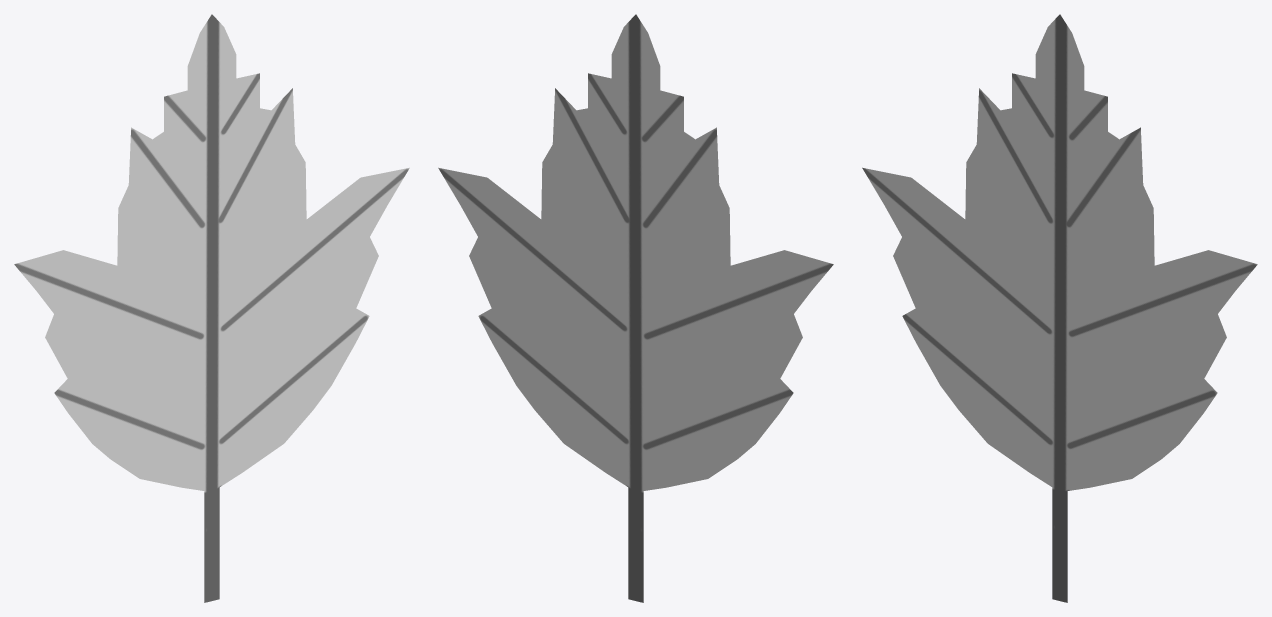
The model's file is Leaf4.gltf.
3 views of the same model, side by side, from view 1: azimuth 30°, elevation 25°; view 2: azimuth 150°, elevation 25°; view 3: azimuth 330°, elevation 25° (orthographic).
Parts seen in each view (by area): view 1: Leaf4; view 2: Leaf4; view 3: Leaf4.
Boxes of the visible parts, x1,y1,x2,y2 form: Leaf4: (14, 14, 409, 602); Leaf4: (438, 14, 833, 602); Leaf4: (862, 14, 1257, 602).
Size of the model in its own units: 0.2135 by 0.3026 by 8.42e-09.
1 material, 1 textured.
